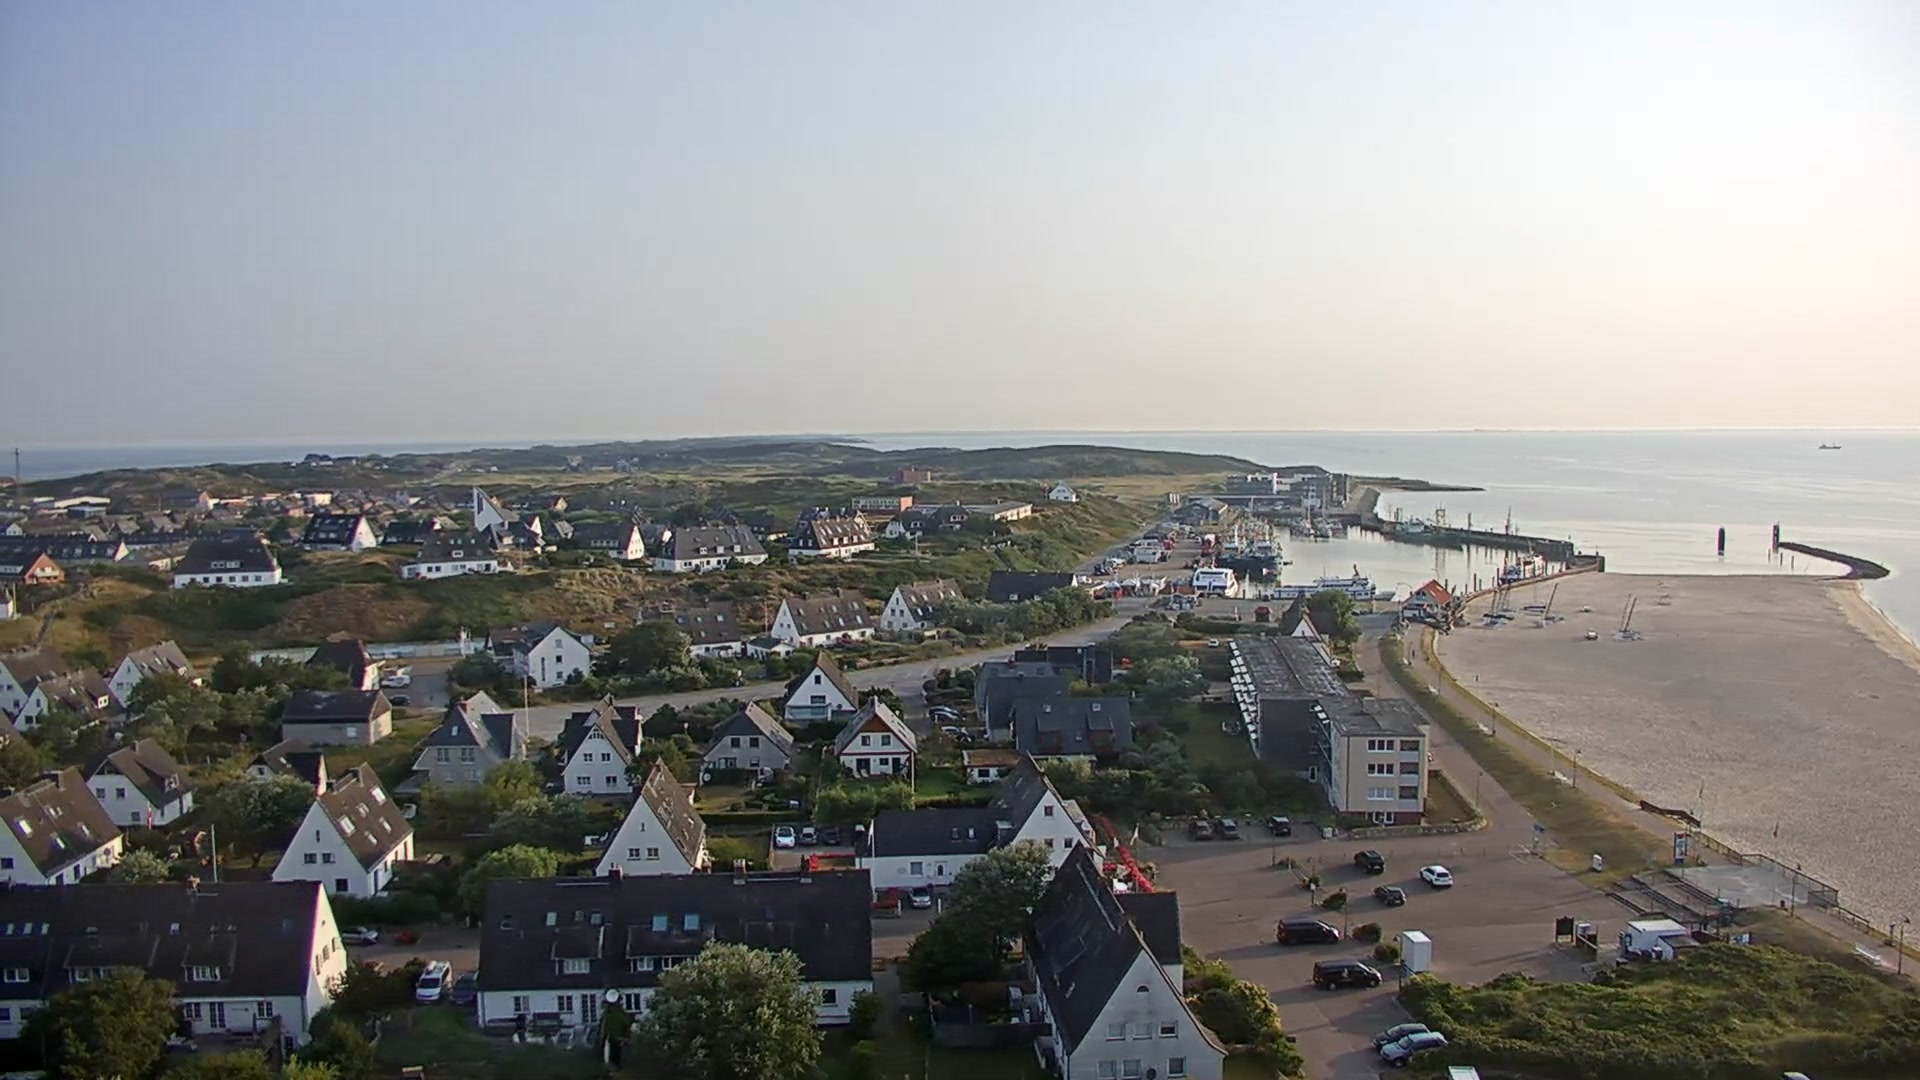human: (1411, 649, 1415, 658)
land: (1378, 1030, 1446, 1066), (1311, 958, 1381, 991), (1275, 916, 1340, 945), (412, 958, 450, 1005), (1371, 1021, 1431, 1048), (445, 969, 479, 1007), (338, 925, 379, 947), (1353, 847, 1385, 873), (1420, 864, 1454, 888), (1373, 882, 1406, 906), (906, 886, 932, 908), (1266, 812, 1291, 835), (1213, 818, 1239, 839), (1188, 819, 1212, 840), (379, 674, 411, 688), (774, 826, 796, 847), (821, 825, 842, 846), (929, 710, 960, 722), (798, 826, 818, 845), (926, 704, 959, 716), (387, 694, 411, 706), (938, 725, 960, 737)
sea: (1267, 561, 1397, 602), (1381, 504, 1462, 543), (1498, 538, 1547, 582), (1610, 591, 1645, 640), (1530, 581, 1565, 626), (1481, 574, 1516, 619), (1189, 564, 1237, 596), (1247, 530, 1283, 571), (1214, 526, 1246, 570), (1481, 588, 1508, 627), (1817, 442, 1843, 450)
